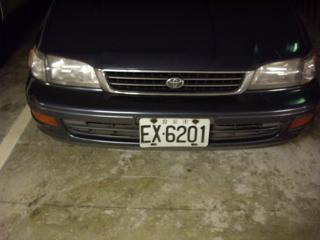plate: (137, 115, 211, 148)
